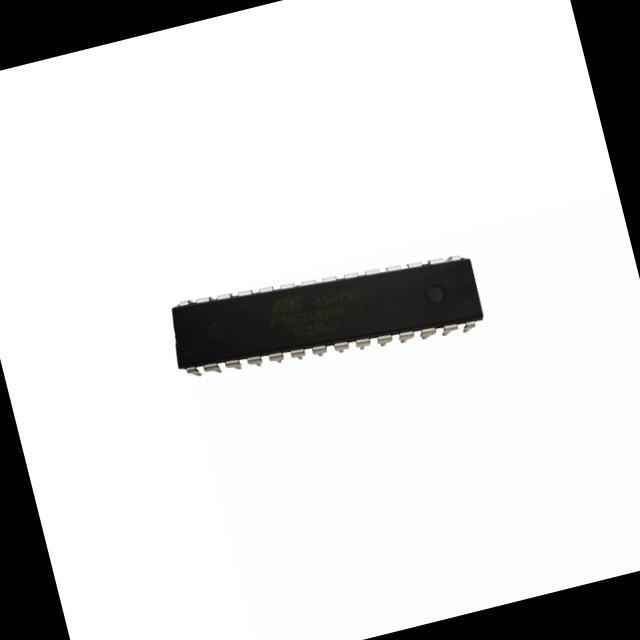atmega: (160, 228, 490, 404)
